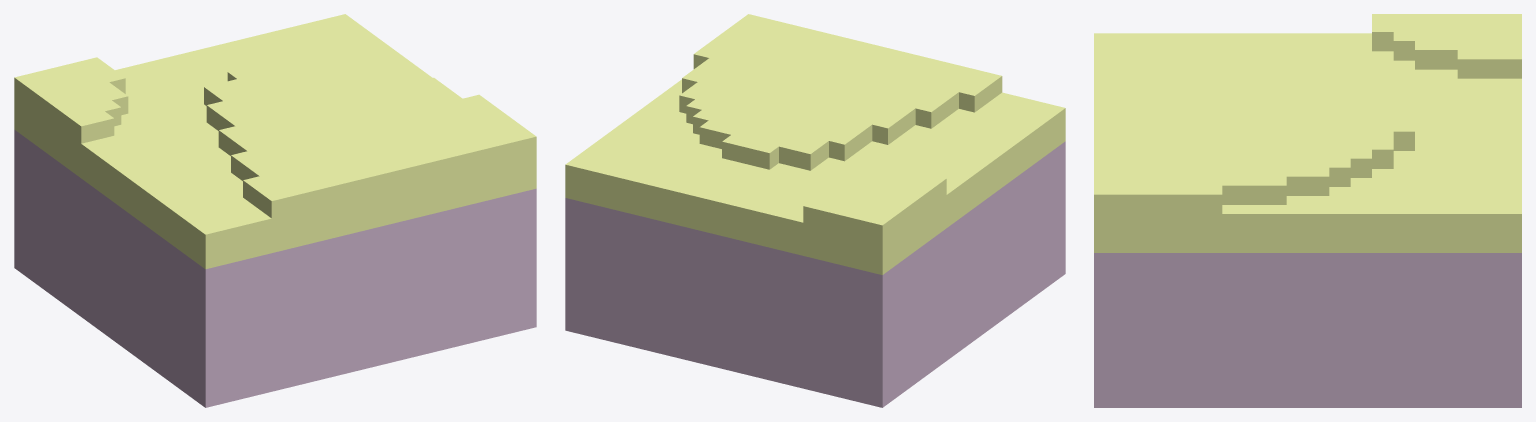
File: GroundSand.obj
3 views of the same model, side by side, from view 1: azimuth 30°, elevation 25°; view 2: azimuth 150°, elevation 25°; view 3: azimuth 270°, elevation 25° (orthographic). The views are drawn at different scales.
Bounding box in the file's own units: 2 × 1.1 × 2.
